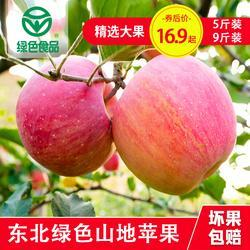apple: (110, 54, 235, 197), (15, 55, 114, 180)
